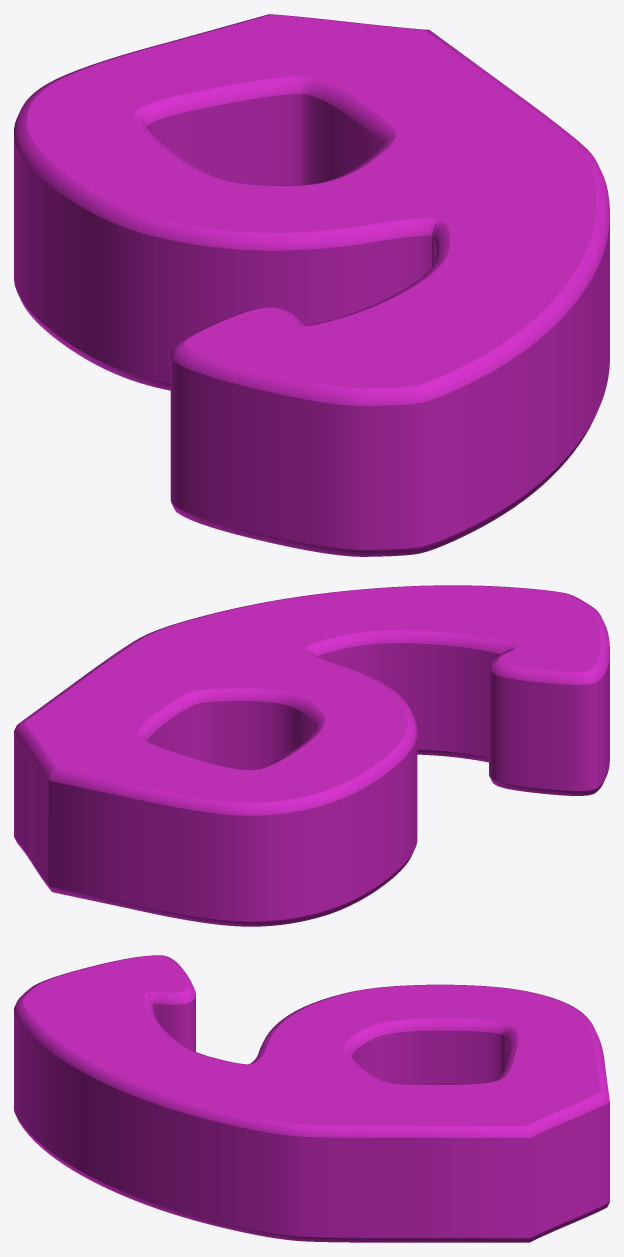
File: Bubble_Number6.fbx
3 views of the same model, one above another, from view 1: azimuth 30°, elevation 25°; view 2: azimuth 150°, elevation 25°; view 3: azimuth 270°, elevation 25° (orthographic). The views are drawn at different scales.
Parts seen in each view (by area): view 1: BubbleNumber_6; view 2: BubbleNumber_6; view 3: BubbleNumber_6.
Part boxes in pixels (left/top/right/bottom): BubbleNumber_6: left=14, top=14, right=609, bottom=556; BubbleNumber_6: left=14, top=585, right=609, bottom=926; BubbleNumber_6: left=14, top=955, right=609, bottom=1242.
Bounding box in the file's own units: 0.4587 × 0.14 × 0.6487.
